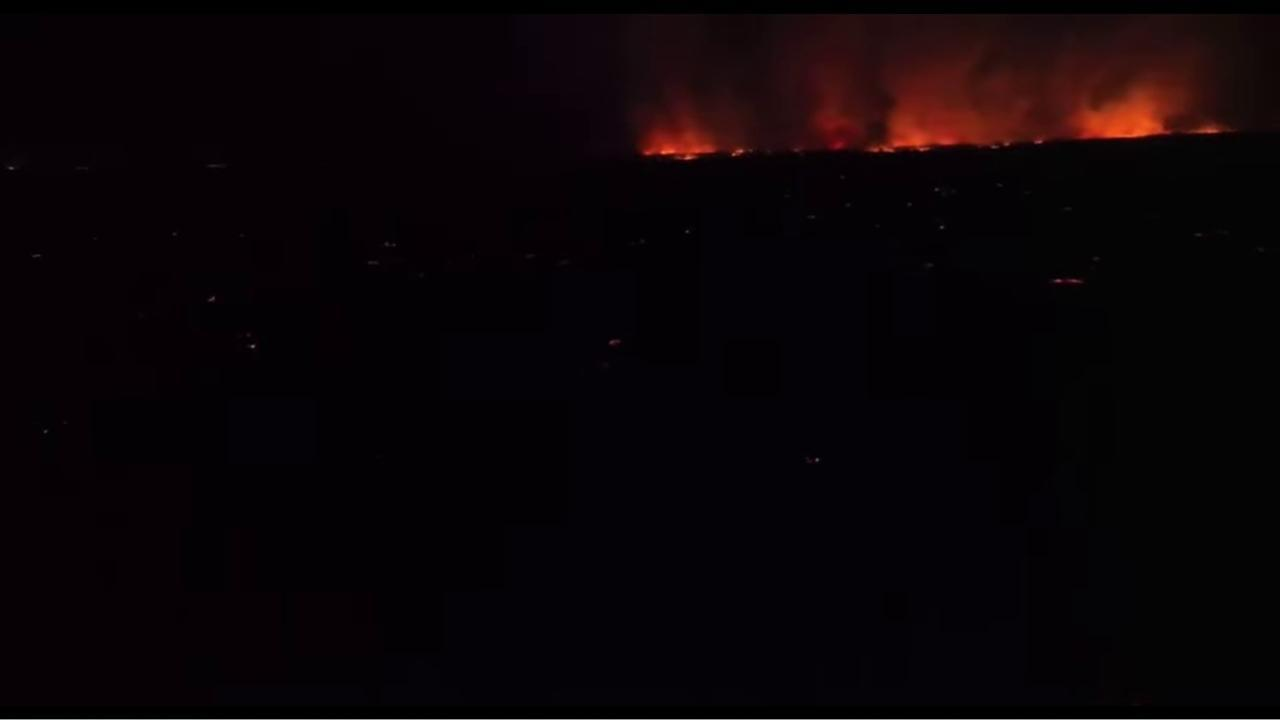fire: (1076, 77, 1175, 140), (863, 137, 958, 154), (644, 142, 719, 161), (1048, 276, 1085, 288), (826, 136, 852, 152), (1182, 126, 1226, 135), (728, 145, 748, 158), (608, 335, 625, 350), (802, 455, 822, 466), (205, 294, 219, 305), (367, 257, 382, 267), (384, 239, 399, 248), (1032, 137, 1045, 146), (1002, 138, 1013, 148), (246, 344, 259, 350), (989, 144, 999, 149)
smoke: (498, 15, 1279, 167)
